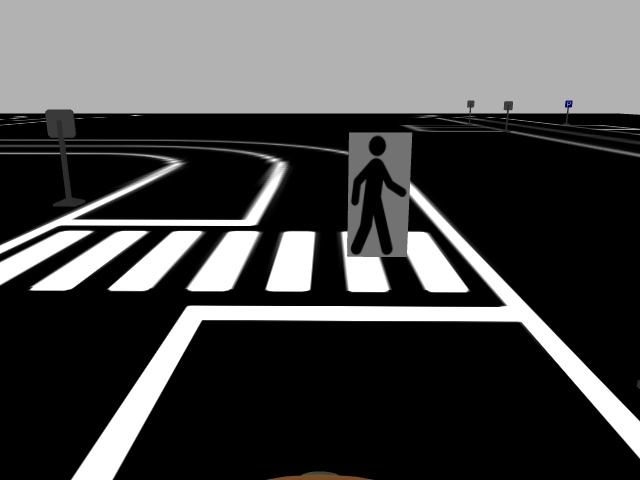parking: (563, 99, 574, 109)
pedestrian: (345, 131, 416, 258)
